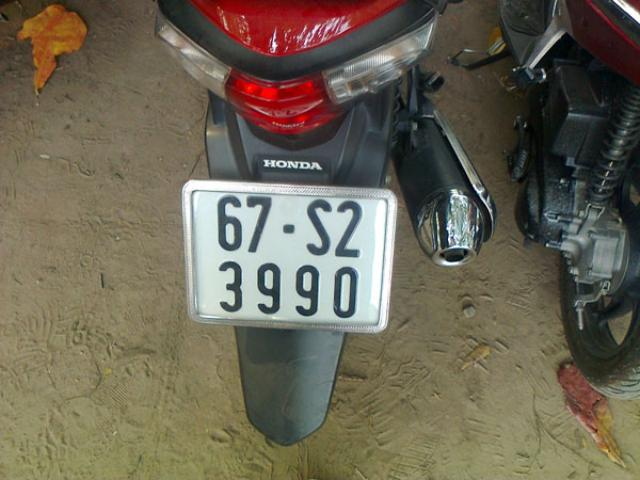plate: (187, 180, 387, 330)
